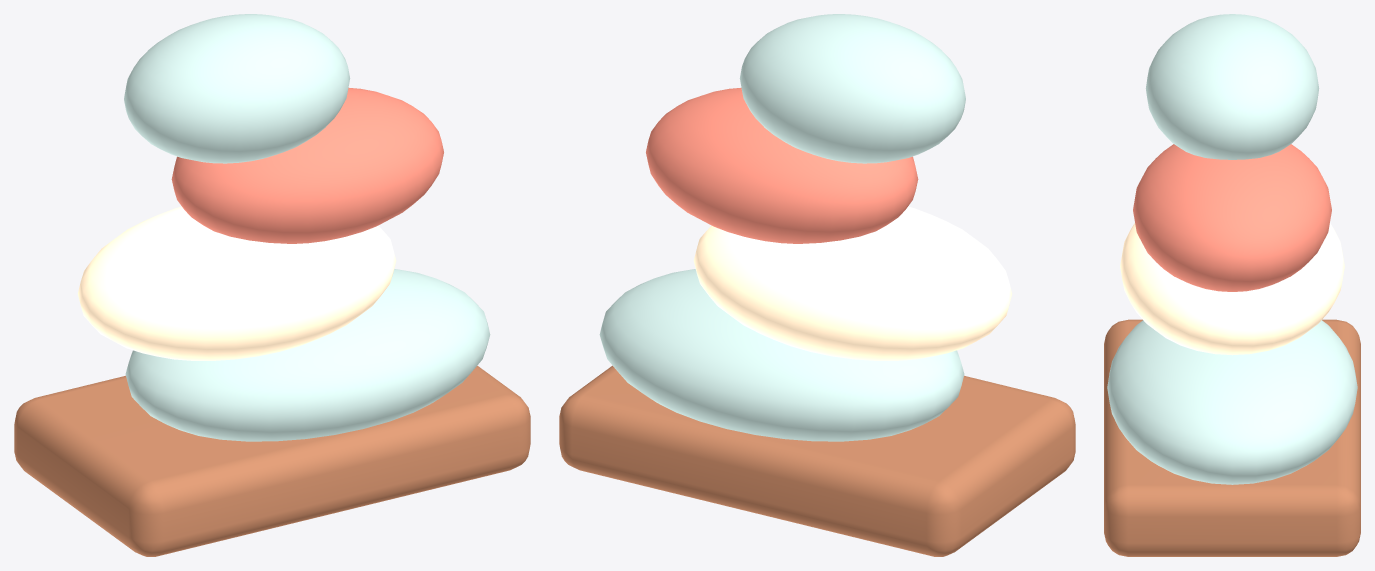
File: pebble_stack.glb
3 views of the same model, side by side, from view 1: azimuth 30°, elevation 25°; view 2: azimuth 150°, elevation 25°; view 3: azimuth 270°, elevation 25° (orthographic). The views are drawn at different scales.
Parts seen in each view (by area): view 1: pebble_stack; view 2: pebble_stack; view 3: pebble_stack.
Boxes of the visible parts, x1,y1,x2,y2 form: pebble_stack: (14,14,530,556); pebble_stack: (559,14,1075,556); pebble_stack: (1104,14,1360,556).
Size of the model in its own units: 0.274 by 0.293 by 0.16.
